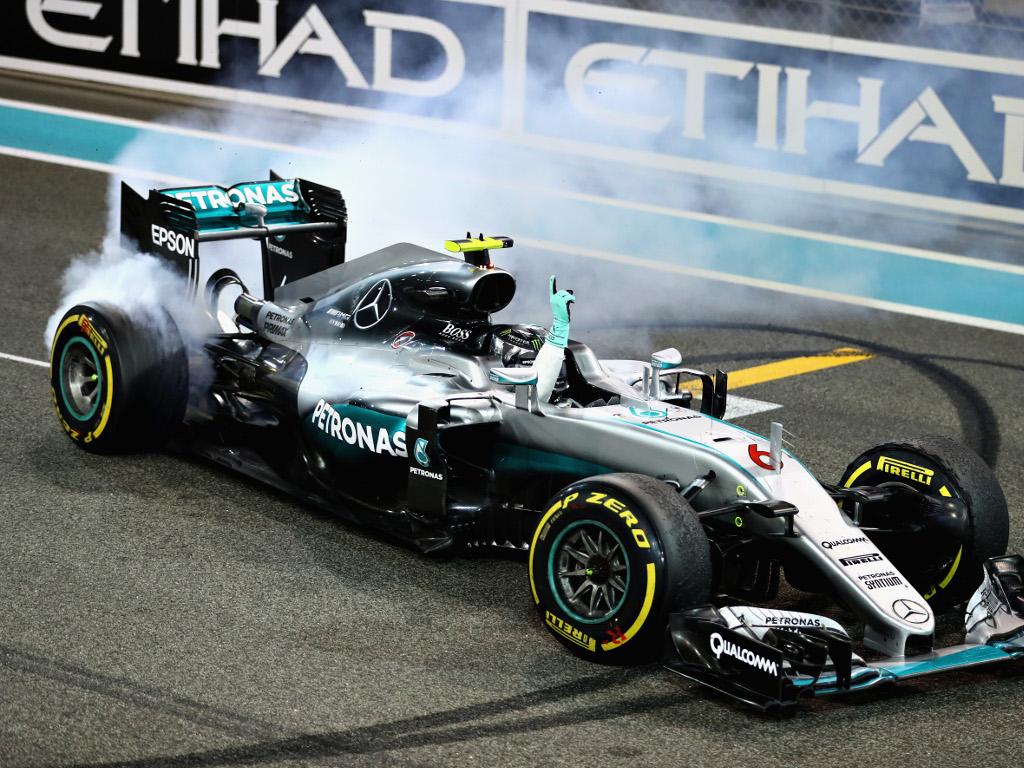f1_car: (43, 152, 1024, 735)
helmet: (496, 319, 582, 408)
